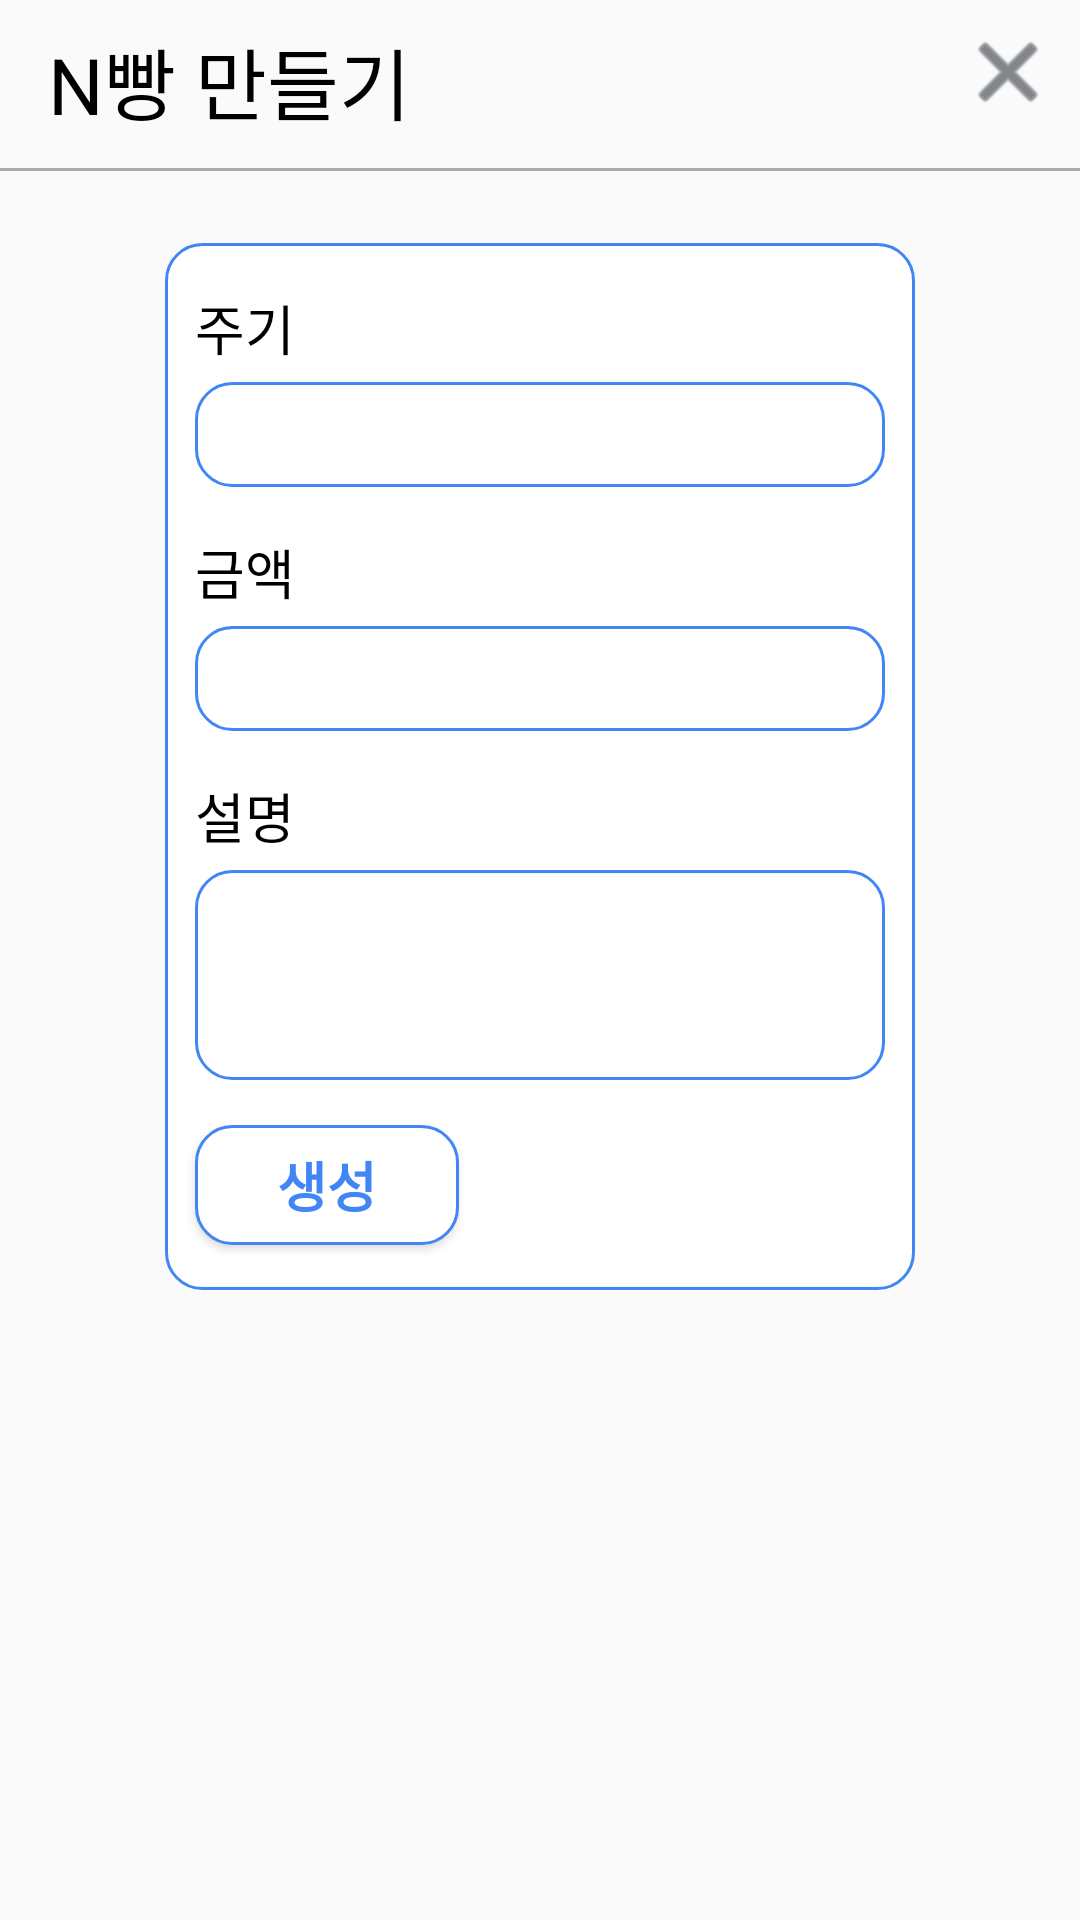

Screen size 1080*1920. Icon name, then its box in pixels as {"left": x1, "top": y1, "right": x2, "bottom": y2}:
close clear cancel: {"left": 978, "top": 42, "right": 1038, "bottom": 102}
